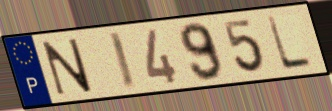4: (144, 27, 180, 86)
5: (221, 17, 267, 75)
9: (176, 20, 226, 83)
I: (105, 29, 138, 92)
L: (264, 14, 315, 71)
N: (40, 37, 95, 98)
